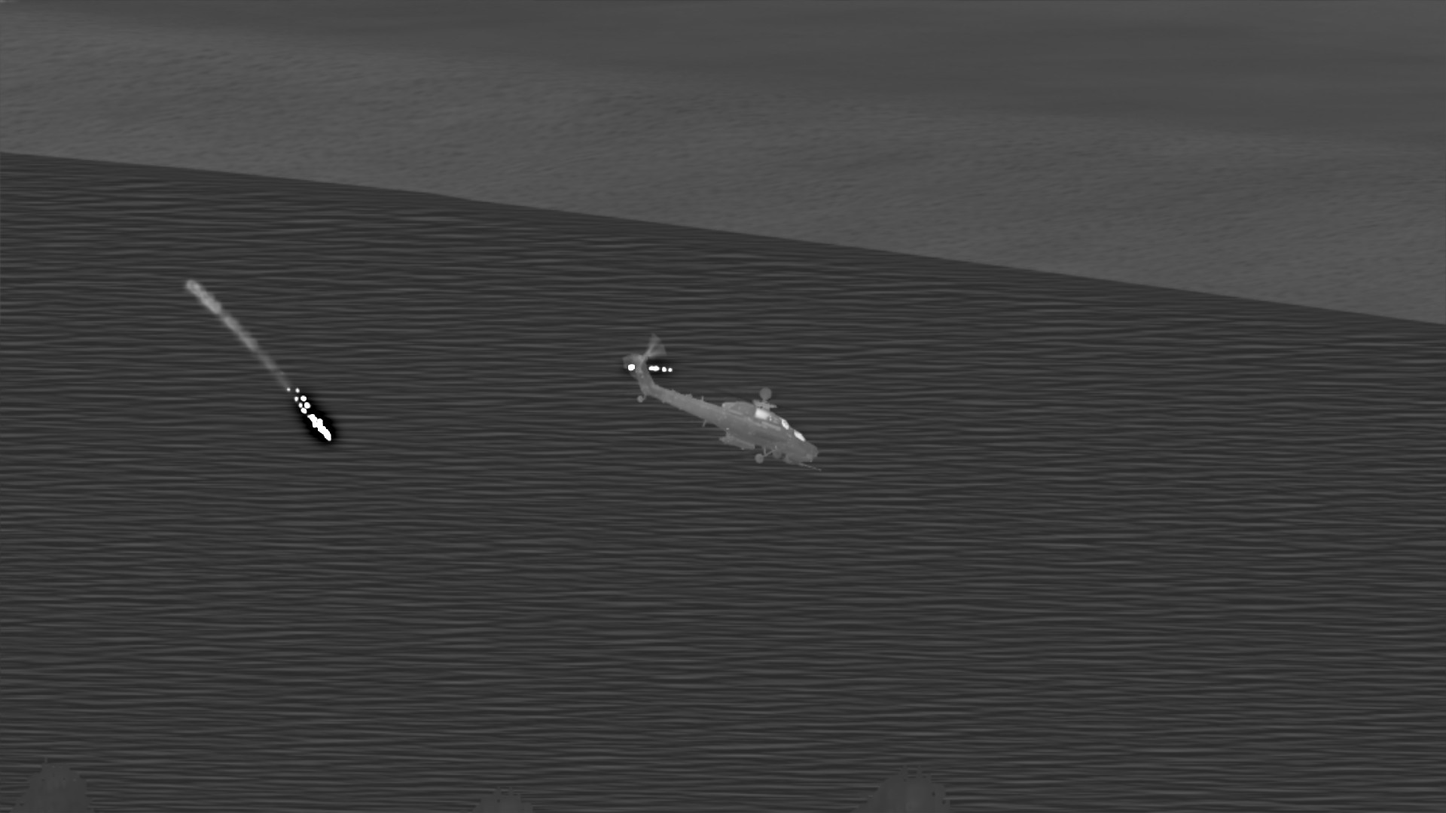mi28: (621, 334, 824, 474)
